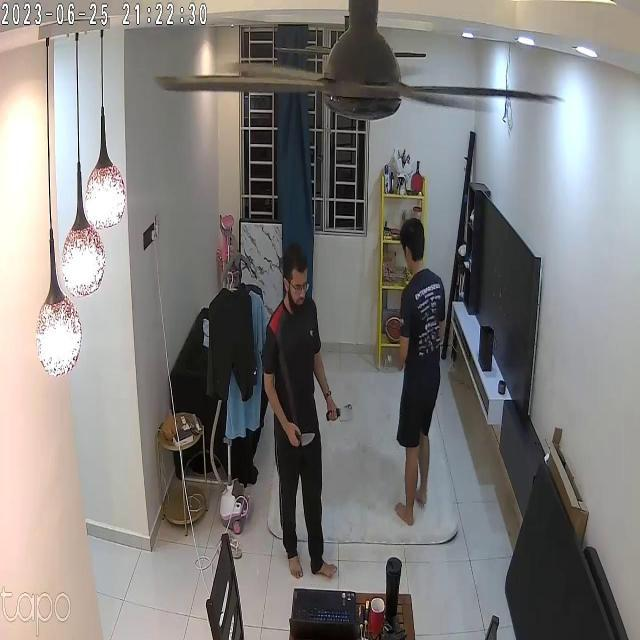Knife: (325, 396, 362, 432), (289, 426, 324, 452)
